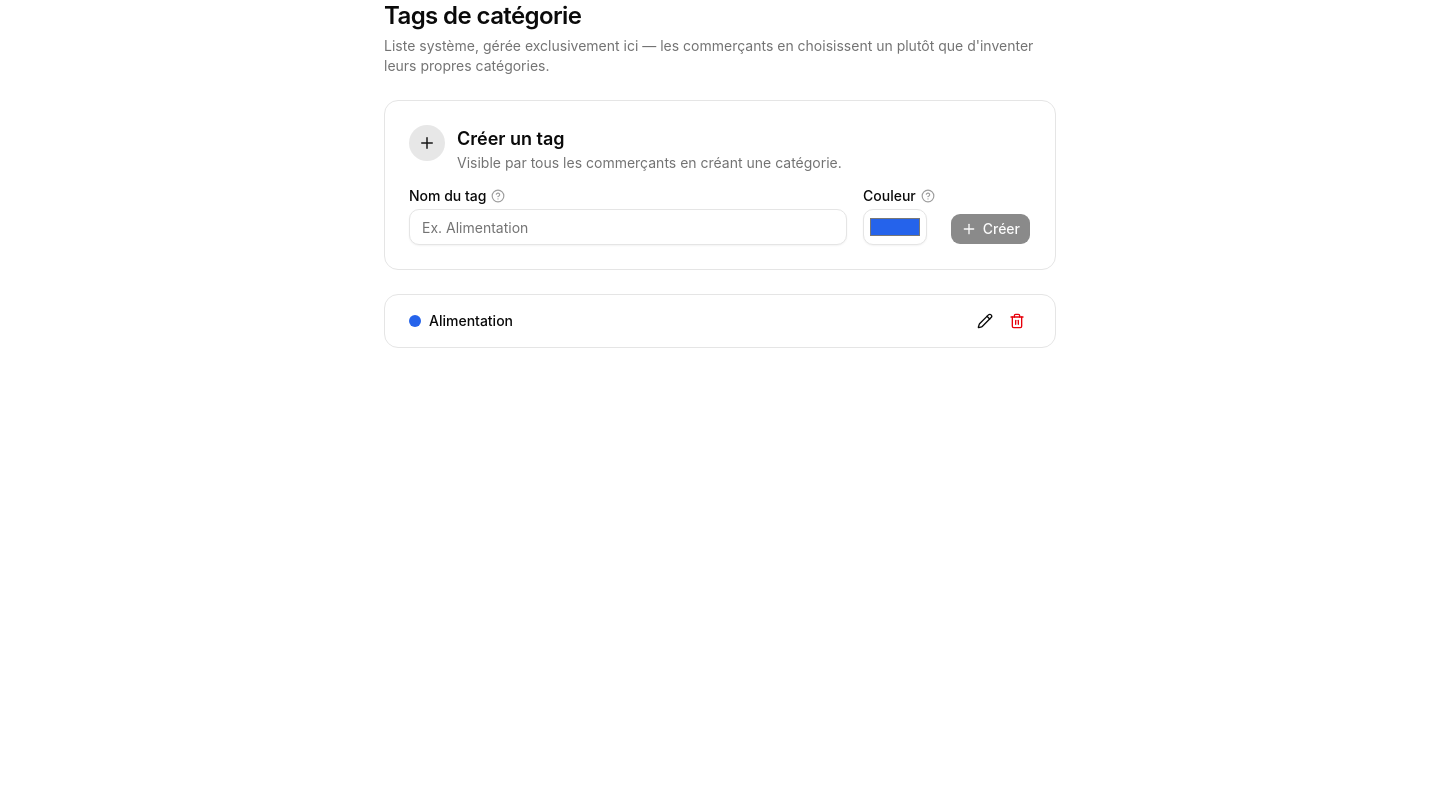
Test case: CategoryTagsPageContent › modifier un tag (double-clic ou icône) › closes without saving when cancelled
The width and height of the screenshot is (1440, 810).
Click the button named "Modifier Alimentation": (985, 321) [971,307,999,335]
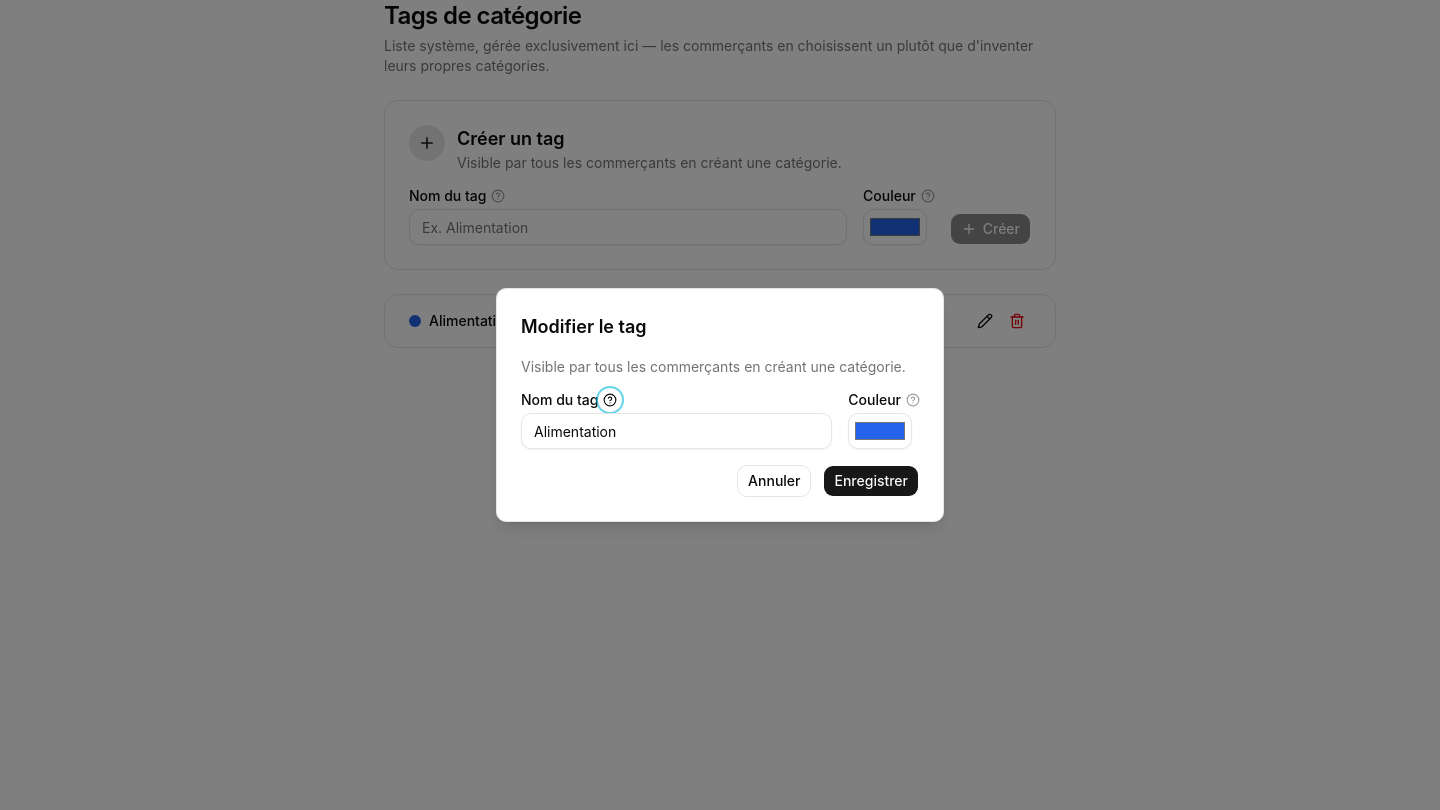
Check: the heading "Modifier le tag" is shown, box [521,313,647,341]
Click the button "Annuler": (774, 481) [737,465,812,497]
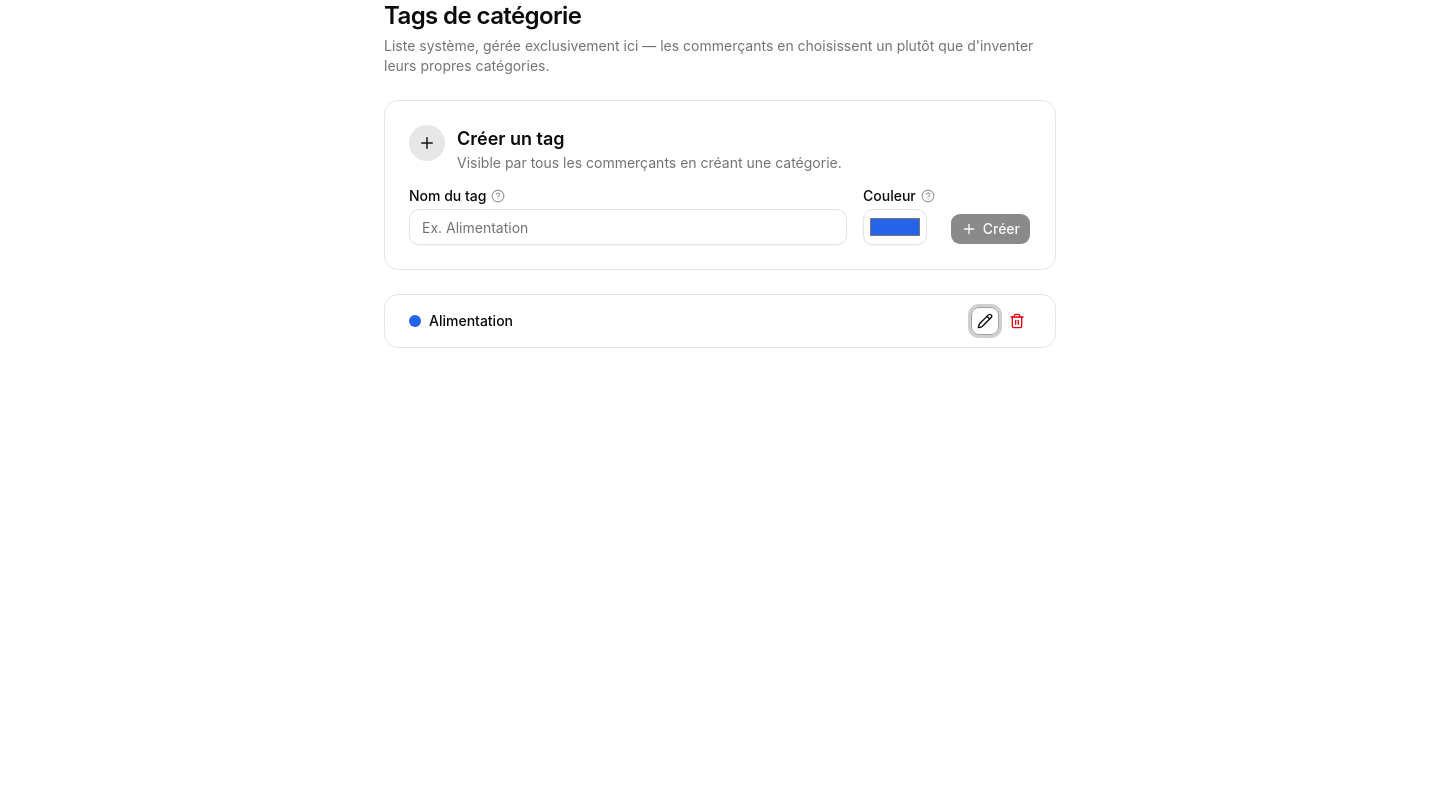
Check: the heading "Modifier le tag" is gone
